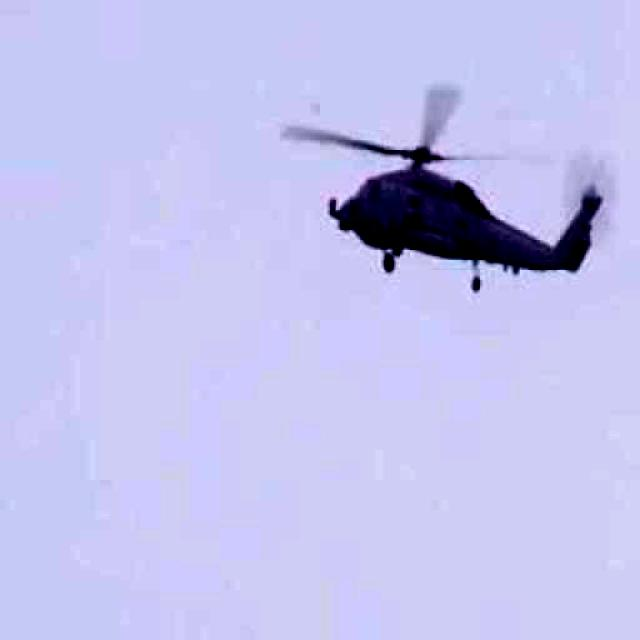drone: (251, 25, 640, 319)
